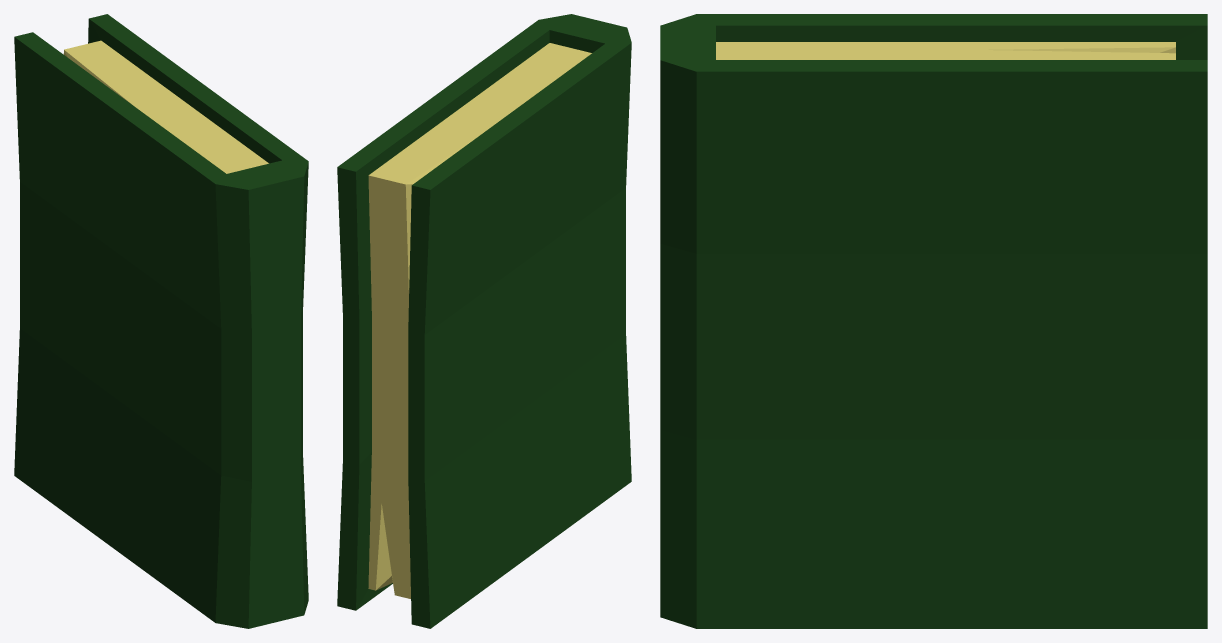
The model's file is book_2.obj.
3 views of the same model, side by side, from view 1: azimuth 30°, elevation 25°; view 2: azimuth 150°, elevation 25°; view 3: azimuth 270°, elevation 25° (orthographic). The views are drawn at different scales.
Parts seen in each view (by area): view 1: book_2_Cube.039_clothGreen, book_2_Cube.039_paperYellow; view 2: book_2_Cube.039_clothGreen, book_2_Cube.039_paperYellow; view 3: book_2_Cube.039_clothGreen, book_2_Cube.039_paperYellow.
Part boxes in pixels (left/top/right/bottom): book_2_Cube.039_clothGreen: left=14, top=14, right=308, bottom=628; book_2_Cube.039_paperYellow: left=63, top=40, right=268, bottom=173; book_2_Cube.039_clothGreen: left=337, top=14, right=631, bottom=628; book_2_Cube.039_paperYellow: left=368, top=43, right=591, bottom=598; book_2_Cube.039_clothGreen: left=660, top=14, right=1207, bottom=628; book_2_Cube.039_paperYellow: left=716, top=42, right=1175, bottom=59.
Bounding box in the file's own units: 0.0969 × 0.4355 × 0.3877.
